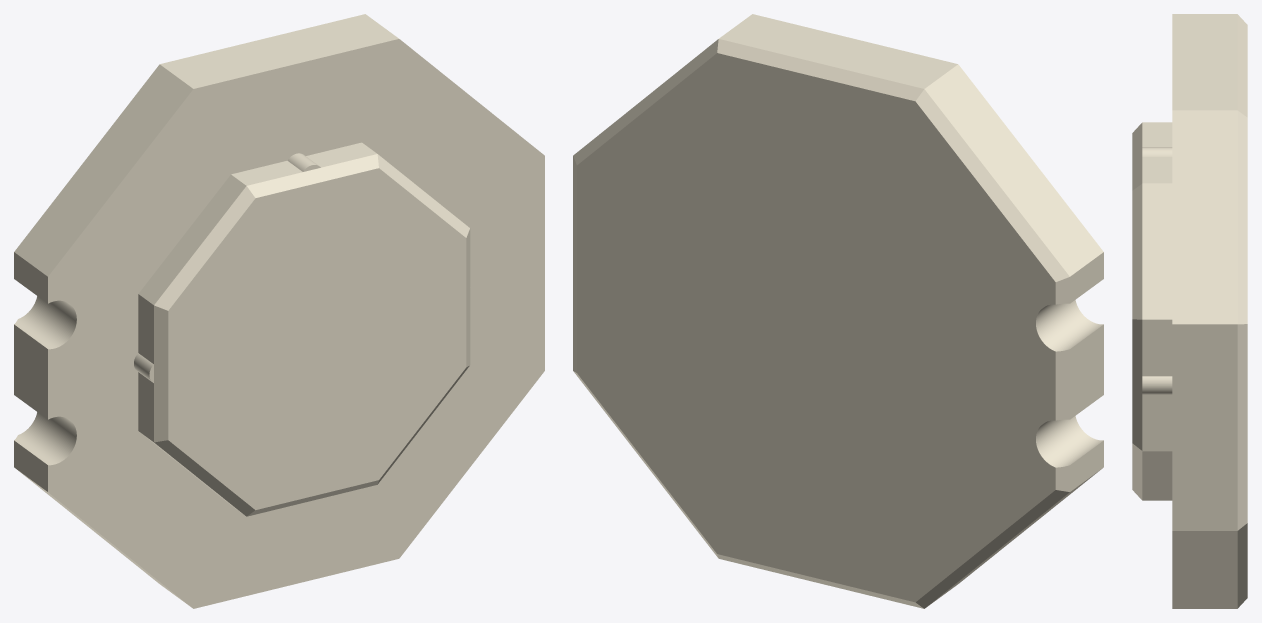
File: coupon-boss-key-r20@ivory.glb
The picture shows the model from 3 angles, left to right: view 1: azimuth 30°, elevation 25°; view 2: azimuth 150°, elevation 25°; view 3: azimuth 270°, elevation 25°; orthographic projection. The views are drawn at different scales.
Parts seen in each view (by area): view 1: geometry_0; view 2: geometry_0; view 3: geometry_0.
Part boxes in pixels (left/top/right/bottom): geometry_0: left=14, top=14, right=544, bottom=608; geometry_0: left=573, top=14, right=1103, bottom=608; geometry_0: left=1132, top=14, right=1247, bottom=608.
Size of the model in its own units: 22 by 22 by 4.6.
